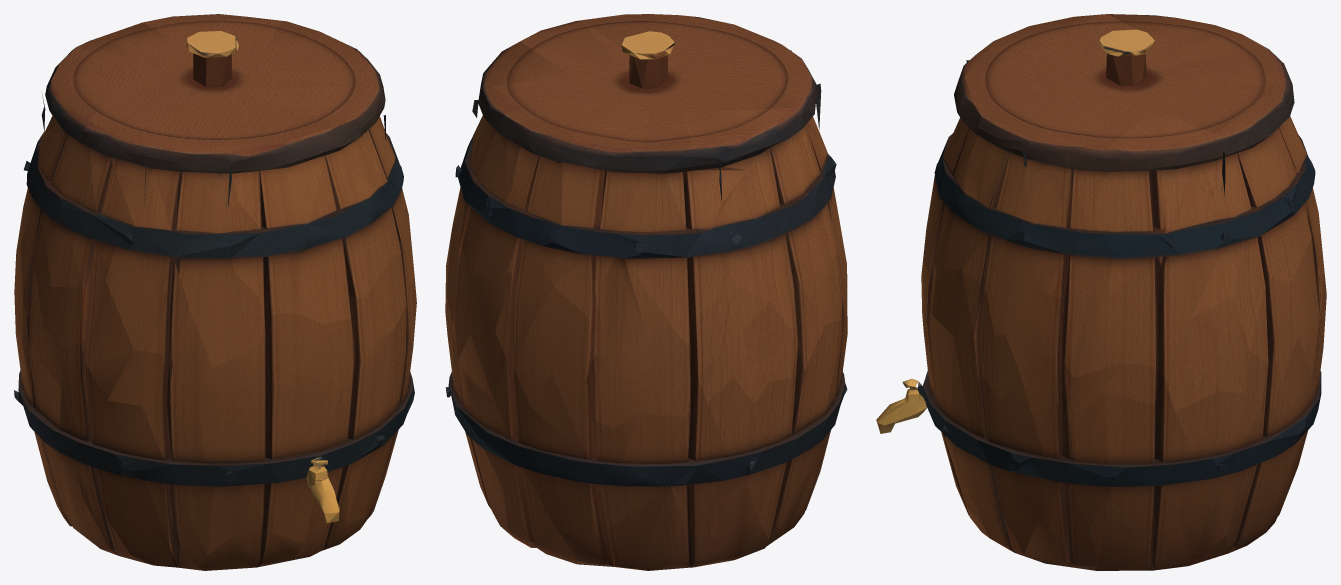
The model's file is water_butt.glb.
The picture shows the model from 3 angles, left to right: view 1: azimuth 30°, elevation 25°; view 2: azimuth 150°, elevation 25°; view 3: azimuth 270°, elevation 25°; orthographic projection.
Visible parts, largest first — view 1: geometry_0; view 2: geometry_0; view 3: geometry_0.
Part boxes in pixels (bbox=[...]): geometry_0: bbox=[14, 14, 416, 570]; geometry_0: bbox=[445, 14, 847, 570]; geometry_0: bbox=[876, 14, 1326, 570].
Bounding box in the file's own units: 0.8251 × 1.05 × 0.9183.
1 material, 1 textured.
